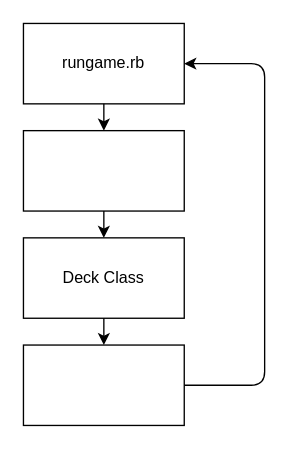
Some shapes in this 299 by 449 pixel diagram are drawn without their labels. Each missing label, with the centre of its shape:
Card Object: (x=103, y=384)
Game Logic Class: (x=103, y=170)
